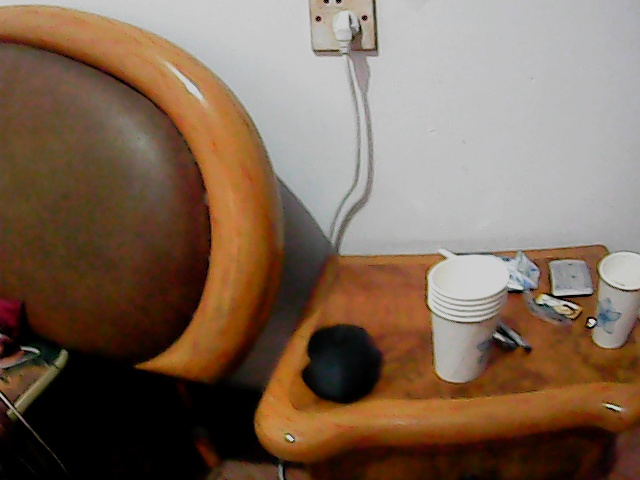cup: (423, 255, 509, 386)
mouse: (299, 320, 388, 406)
